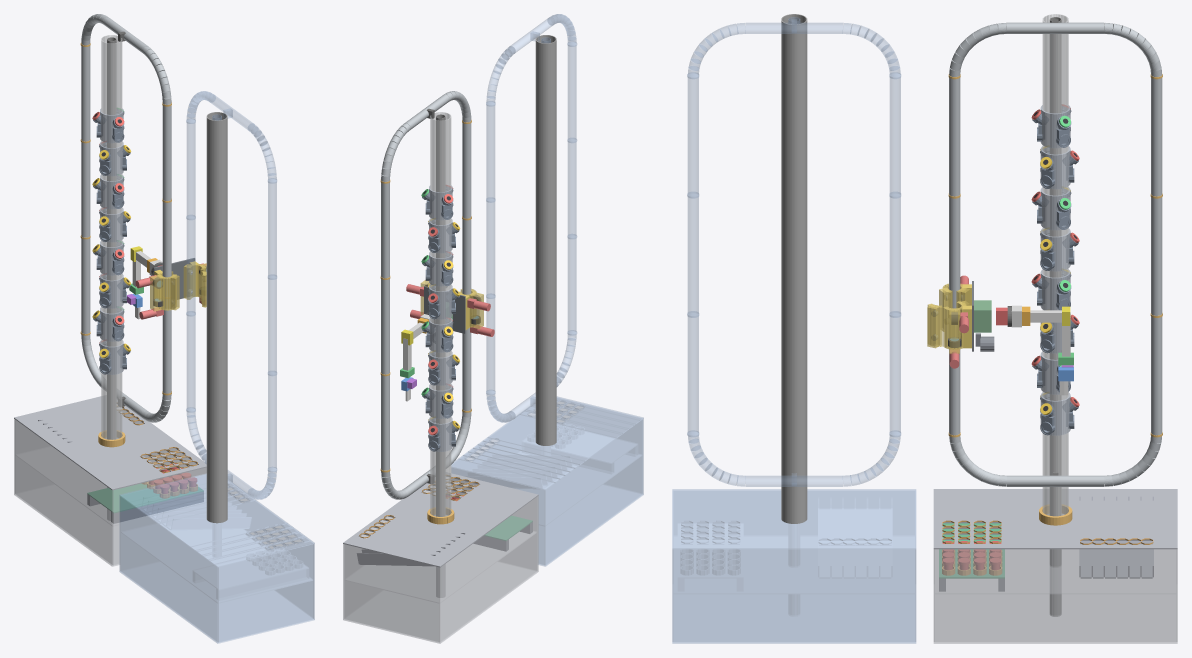
Rendered from reach-test-turn90-v1.glb.
The picture shows the model from 3 angles, left to right: view 1: azimuth 30°, elevation 25°; view 2: azimuth 150°, elevation 25°; view 3: azimuth 270°, elevation 25°; orthographic projection. The views are drawn at different scales.
Bounding box in the file's own units: 0.486 × 1.9 × 1.45.
